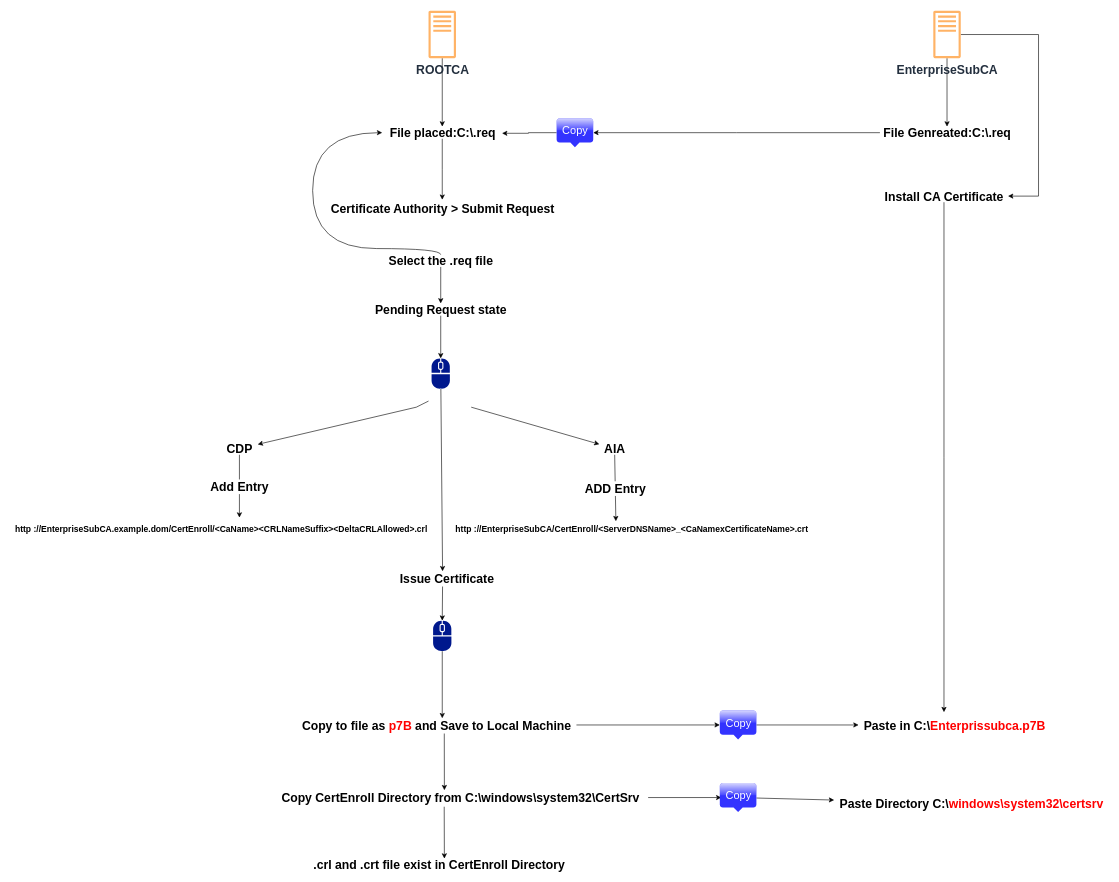
The diagram is 1119 pixels wide and 882 high, and some of its shapes have lost their labels. The shapes that lost their labels are listed below. From the top down, each one's box as (x1, y1, x2, y2) in pixels, then its label:
(431, 358, 450, 389): Right Click on Root CA Properties > Extensions
(433, 620, 451, 651): Right Click and issued Certificate
